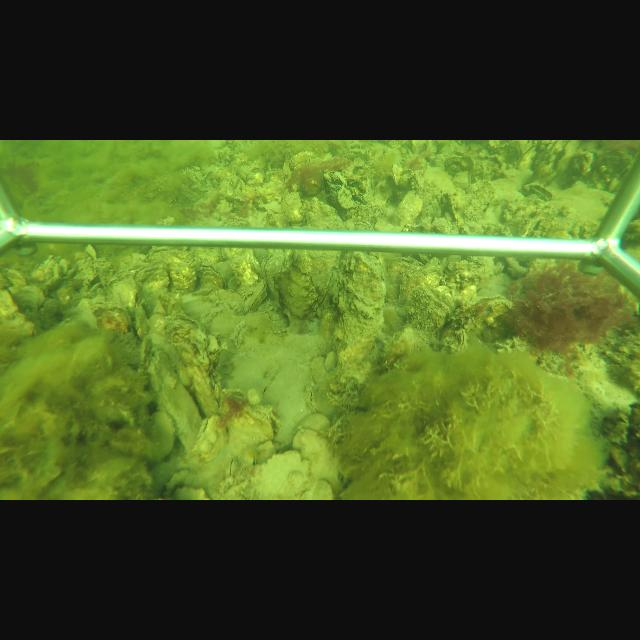Oyster-Closed: (330, 252, 387, 395), (164, 312, 221, 415), (153, 248, 197, 292), (281, 270, 318, 318), (390, 189, 423, 225), (313, 267, 337, 314), (240, 279, 268, 314), (259, 250, 288, 281), (281, 189, 307, 223), (199, 263, 225, 287), (456, 328, 468, 351)
Oyster-Open: (522, 183, 555, 199), (518, 144, 536, 166)
